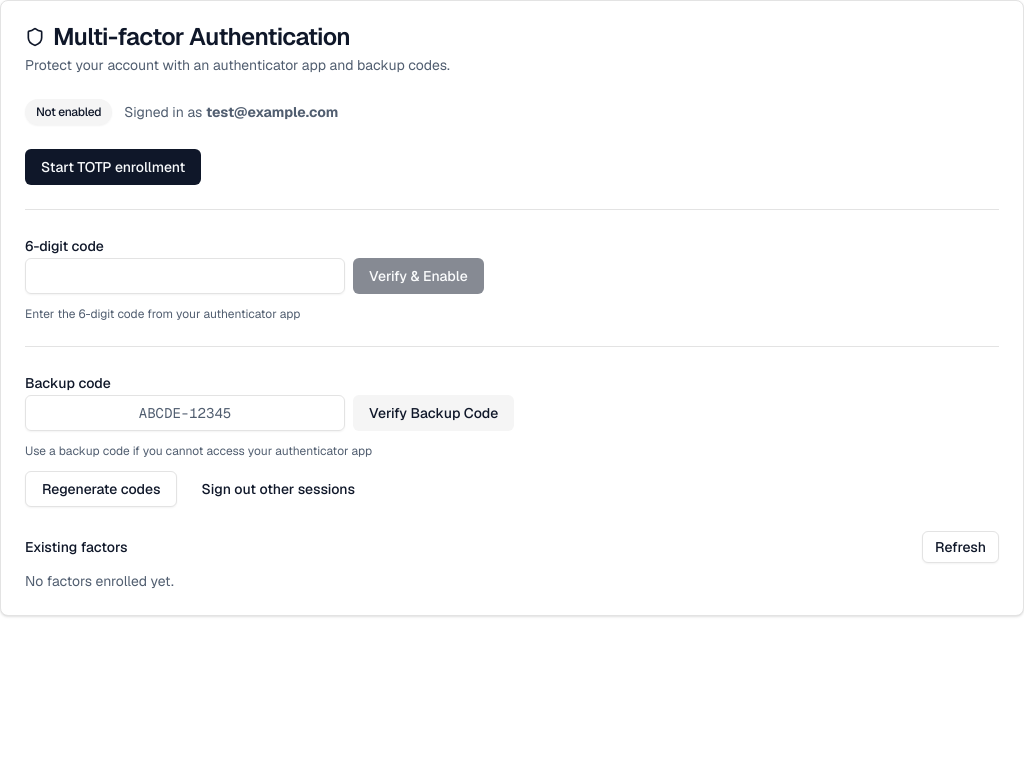
MfaPanel › handles enrollment failure gracefully
Click the button "Start TOTP enrollment" at [113, 167], box [25,149,201,185]
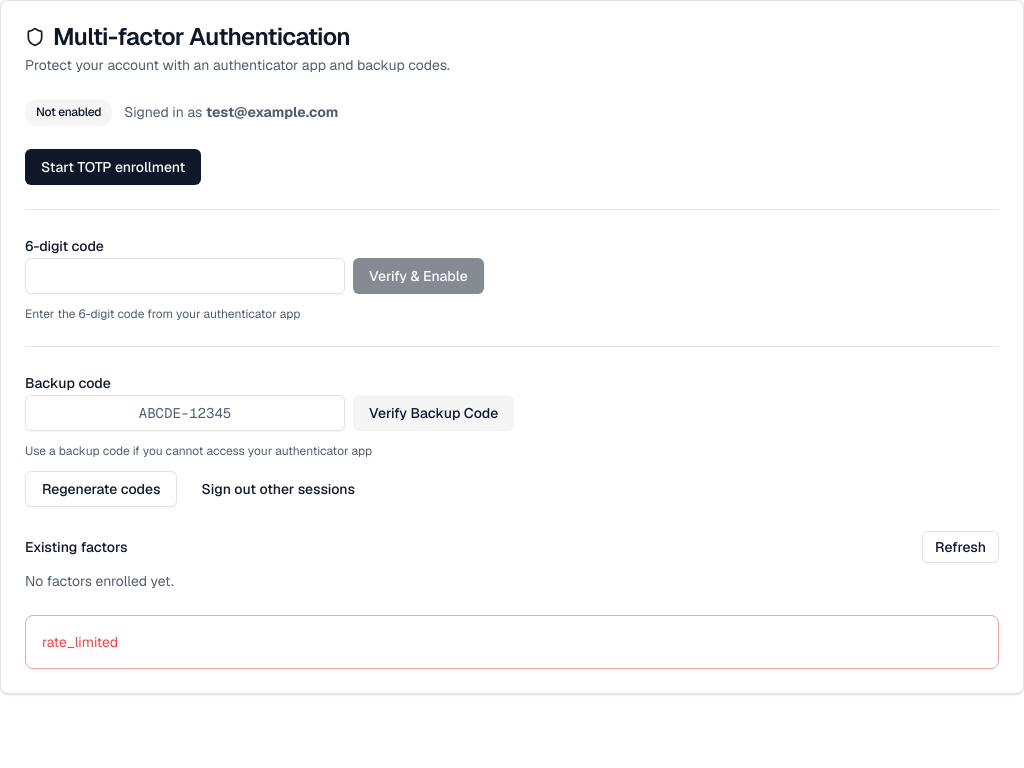
expect the text "rate_limited" is shown: met, box [42,633,118,651]
